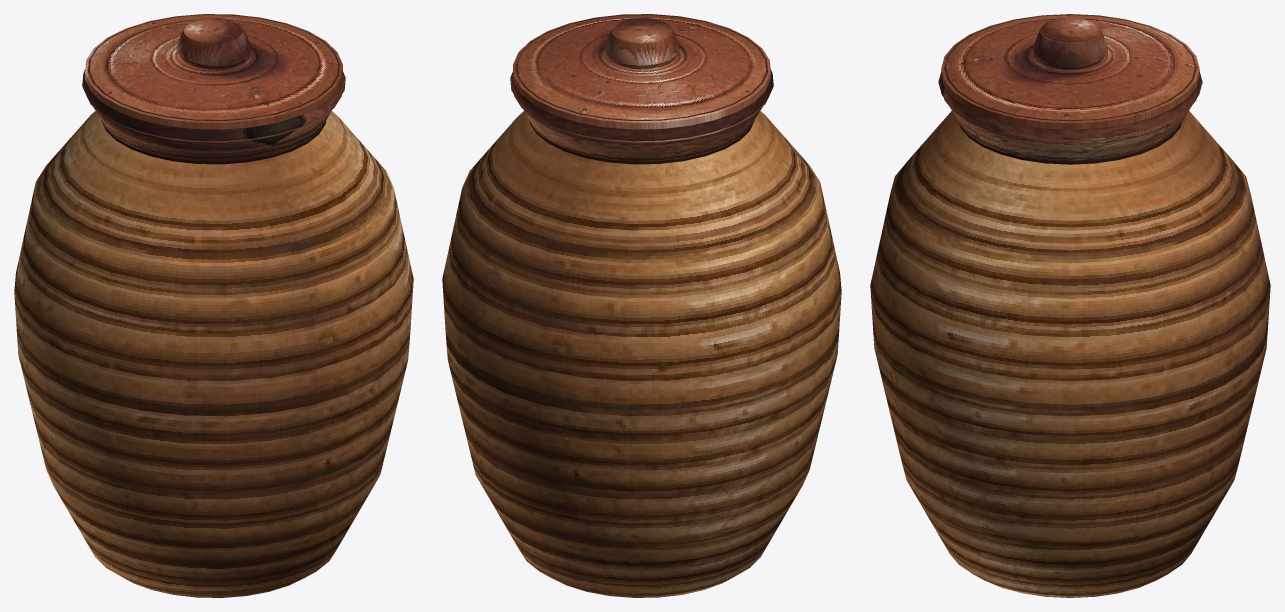
The model's file is jar_storage.glb.
3 renders of one model, left to right at view 1: azimuth 30°, elevation 25°; view 2: azimuth 150°, elevation 25°; view 3: azimuth 270°, elevation 25°, orthographic.
Parts seen in each view (by area): view 1: body, piece_01, piece_06, piece_11, piece_05, piece_07, piece_10, piece_00, piece_09, piece_08, piece_02; view 2: body, piece_09, piece_04, piece_00, piece_10, piece_11, piece_08, piece_07, piece_06, piece_05; view 3: body, piece_07, piece_08, piece_02, piece_03, piece_09, piece_06, piece_01, piece_11, piece_10, piece_04.
Part boxes in pixels (x1,y1,x2,y2): body: [14, 14, 413, 597]; piece_01: [194, 361, 372, 597]; piece_06: [194, 36, 373, 376]; piece_11: [33, 27, 211, 371]; piece_05: [37, 331, 203, 597]; piece_07: [211, 18, 411, 359]; piece_10: [23, 39, 177, 323]; piece_00: [18, 353, 106, 567]; piece_09: [105, 14, 225, 49]; piece_08: [215, 14, 320, 40]; piece_02: [335, 353, 406, 550]; body: [442, 14, 841, 597]; piece_09: [460, 35, 649, 400]; piece_04: [463, 370, 619, 594]; piece_00: [617, 341, 804, 597]; piece_10: [619, 49, 804, 398]; piece_11: [650, 26, 841, 339]; piece_08: [442, 33, 619, 365]; piece_07: [527, 14, 665, 54]; piece_06: [654, 15, 759, 48]; piece_05: [786, 294, 841, 501]; body: [870, 14, 1270, 597]; piece_07: [887, 27, 1090, 416]; piece_08: [1052, 36, 1229, 418]; piece_02: [889, 344, 1052, 596]; piece_03: [1042, 386, 1228, 597]; piece_09: [1091, 22, 1270, 383]; piece_06: [870, 22, 1059, 342]; piece_01: [871, 302, 960, 565]; piece_11: [967, 14, 1099, 44]; piece_10: [1097, 15, 1183, 44]; piece_04: [1177, 327, 1267, 566].
Bounding box in the file's own units: 0.54 × 0.7752 × 0.54.
Materials: 1 (1 with a texture image).
